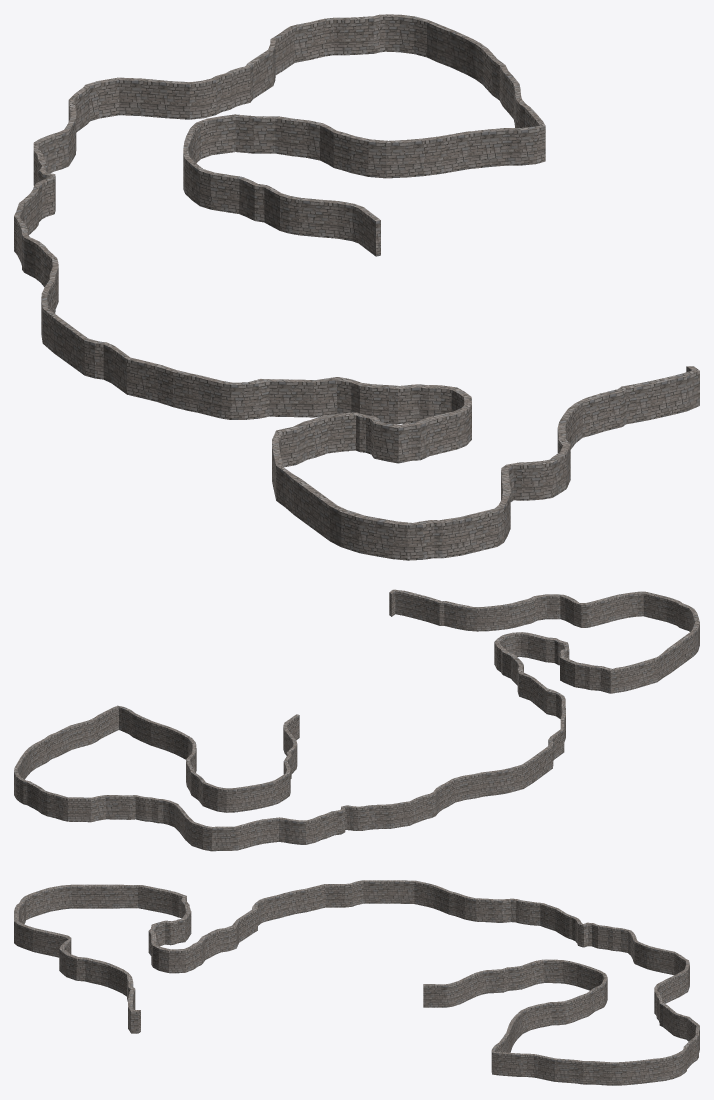
The model's file is Level_K_OuterSupport.fbx.
The picture shows the model from 3 angles, top to bottom: view 1: azimuth 30°, elevation 25°; view 2: azimuth 150°, elevation 25°; view 3: azimuth 270°, elevation 25°; orthographic projection. The views are drawn at different scales.
Parts seen in each view (by area): view 1: BottomSupport; view 2: BottomSupport; view 3: BottomSupport.
Boxes of the visible parts, bbox=[...] form: BottomSupport: bbox=[14, 14, 699, 560]; BottomSupport: bbox=[14, 589, 699, 851]; BottomSupport: bbox=[14, 880, 699, 1085].
Size of the model in its own units: 5952 by 333 by 9408.
